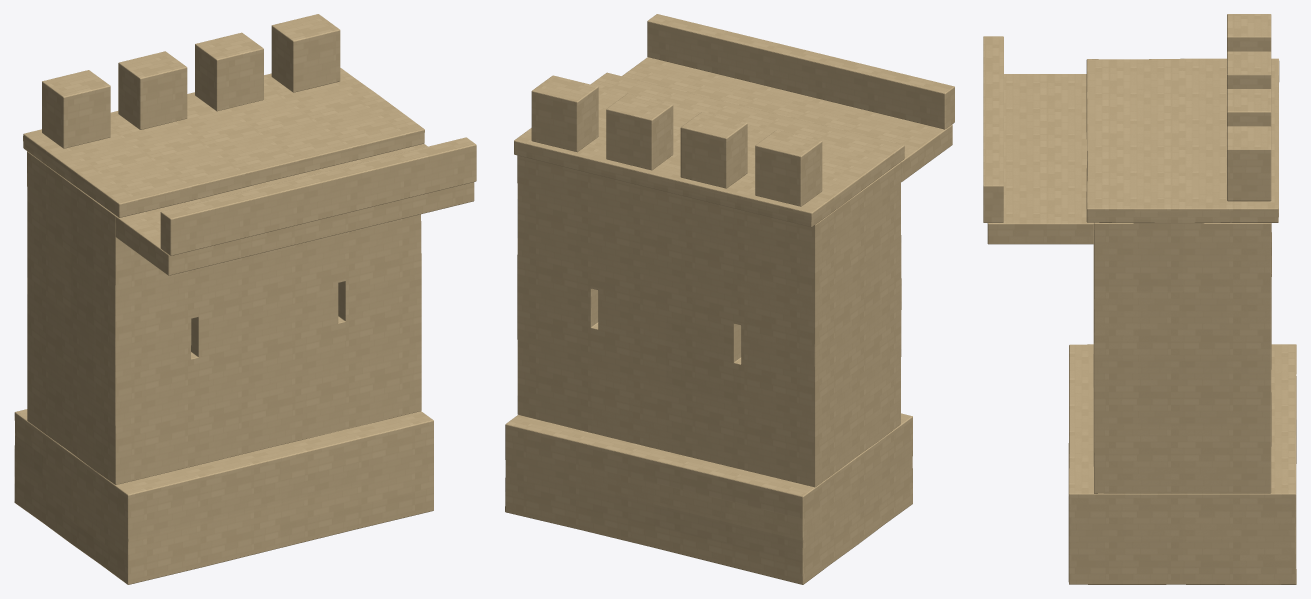
Rendered from w_seg.glb.
The picture shows the model from 3 angles, left to right: view 1: azimuth 30°, elevation 25°; view 2: azimuth 150°, elevation 25°; view 3: azimuth 270°, elevation 25°; orthographic projection. The views are drawn at different scales.
Visible parts, largest first — view 1: seg; view 2: seg; view 3: seg.
Boxes of the visible parts, x1=… form: seg: x1=14, y1=14, x2=476, y2=584; seg: x1=505, y1=14, x2=954, y2=584; seg: x1=983, y1=14, x2=1296, y2=584.
Size of the model in its own units: 12.04 by 16.01 by 10.61.
Materials: 1 (1 with a texture image).
